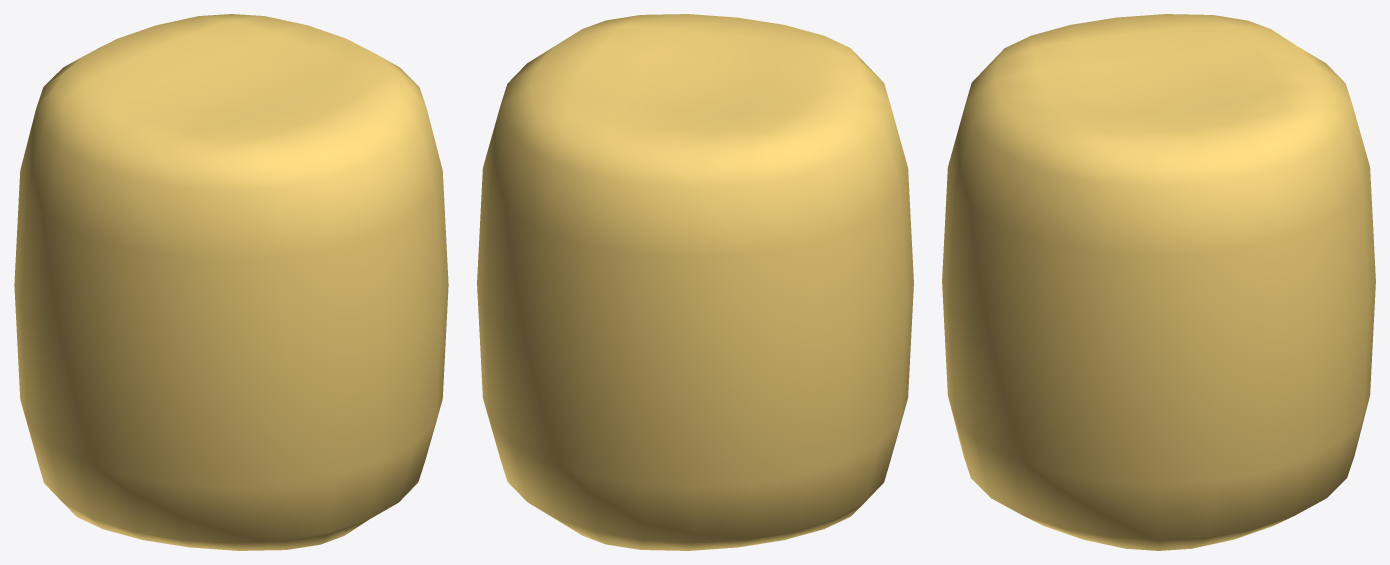
Rendered from Marshmallow Yellow.fbx.
3 renders of one model, left to right at view 1: azimuth 30°, elevation 25°; view 2: azimuth 150°, elevation 25°; view 3: azimuth 270°, elevation 25°, orthographic.
Parts seen in each view (by area): view 1: Marshmallow Yellow; view 2: Marshmallow Yellow; view 3: Marshmallow Yellow.
Boxes of the visible parts, x1,y1,x2,y2 form: Marshmallow Yellow: (14, 14, 448, 550); Marshmallow Yellow: (477, 14, 913, 550); Marshmallow Yellow: (942, 14, 1375, 550).
Bounding box in the file's own units: 0.1566 × 0.1604 × 0.1566.
